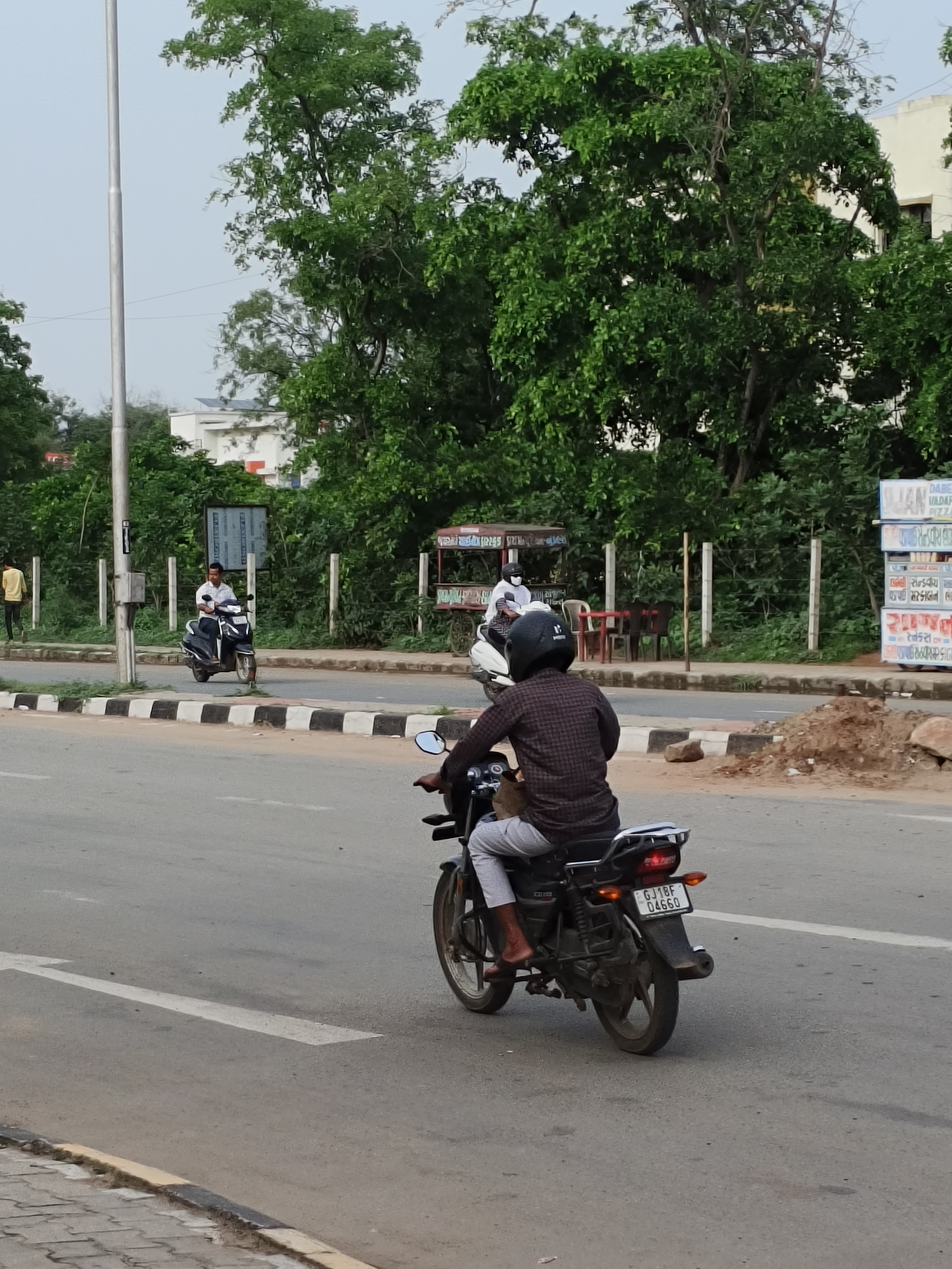BikeWithRider: (401, 600, 725, 1065), (174, 556, 265, 688)
Helmet: (498, 603, 584, 687)
NoHelmet: (205, 560, 229, 586)
